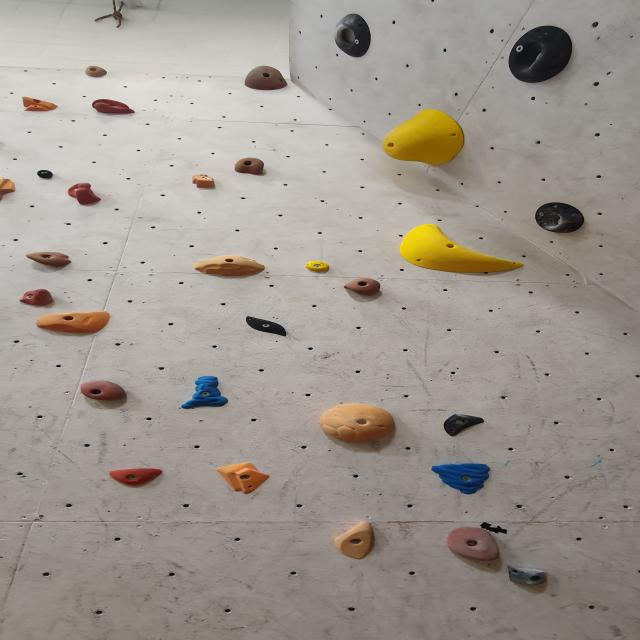Crimp: (431, 465, 493, 495), (107, 467, 166, 486), (91, 100, 137, 116), (304, 262, 333, 274)
Jug: (446, 526, 504, 562), (242, 65, 288, 92), (80, 381, 132, 403), (24, 250, 74, 268), (68, 182, 104, 205), (342, 278, 384, 297), (17, 289, 55, 307), (234, 159, 269, 178), (85, 66, 110, 79)
Pinch: (178, 375, 230, 409), (332, 522, 378, 560), (505, 565, 552, 588), (20, 98, 60, 114), (191, 174, 220, 191), (0, 180, 18, 206), (34, 170, 56, 181)
Pocket: (502, 23, 576, 85), (334, 14, 375, 60), (534, 203, 588, 234)
Sloper: (396, 228, 525, 277), (380, 111, 467, 168), (320, 404, 400, 444), (34, 312, 114, 337), (216, 464, 274, 495), (192, 255, 268, 278), (244, 317, 290, 335)
